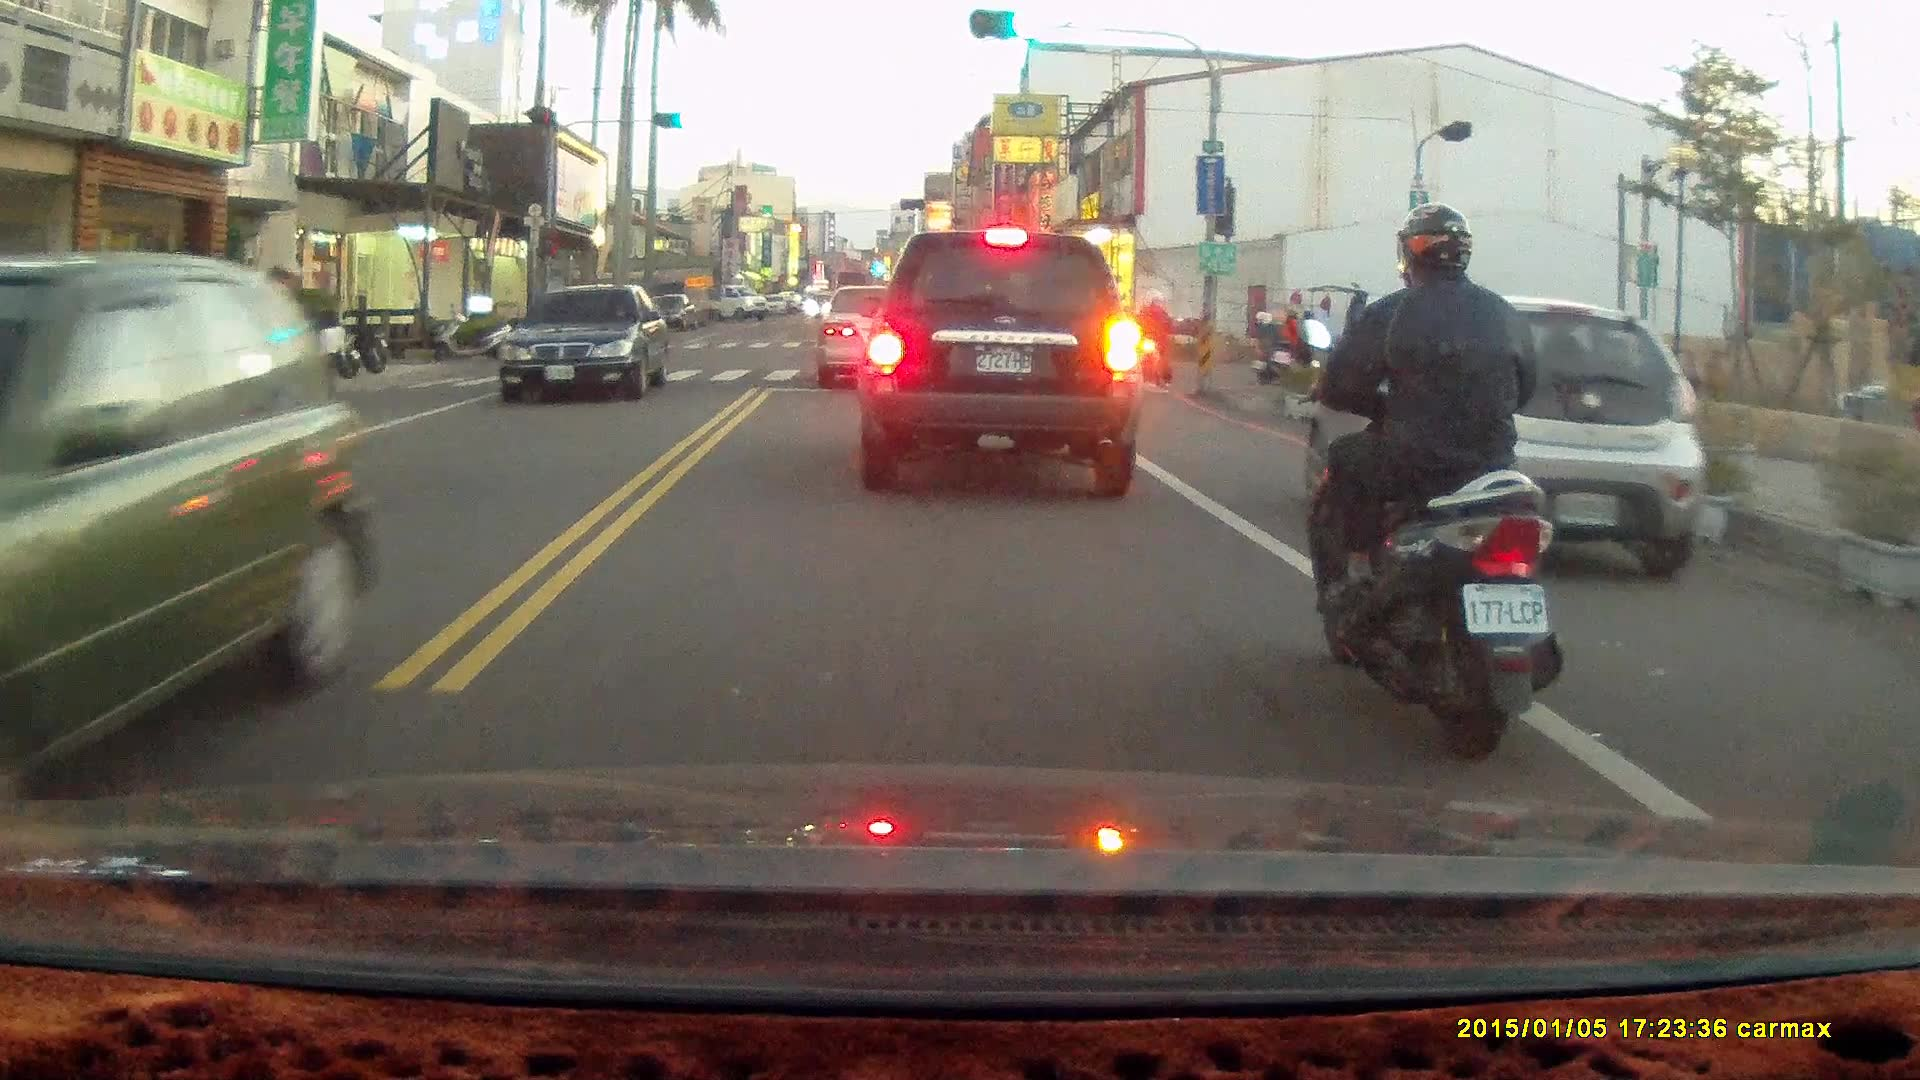rider: (1290, 198, 1564, 758), (1250, 300, 1319, 382), (1126, 287, 1179, 390)
vehicle: (1, 248, 386, 798), (1303, 290, 1709, 578), (859, 224, 1142, 500), (502, 284, 672, 406), (815, 282, 938, 395)
